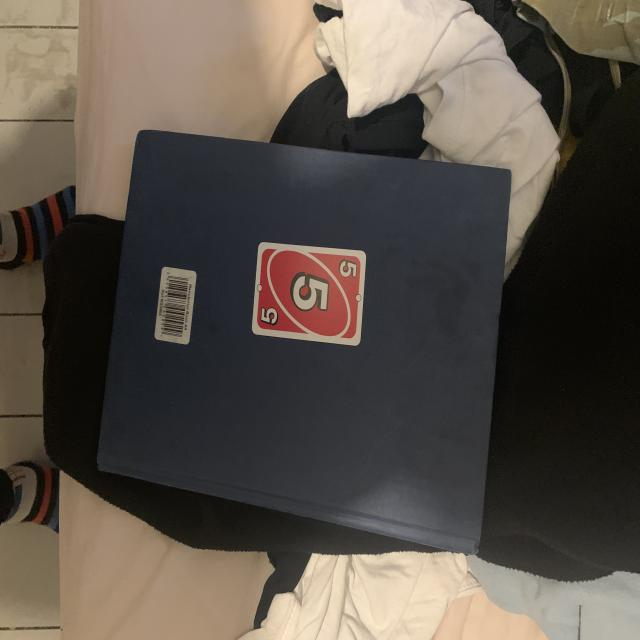lred-5: (338, 257, 360, 283)
